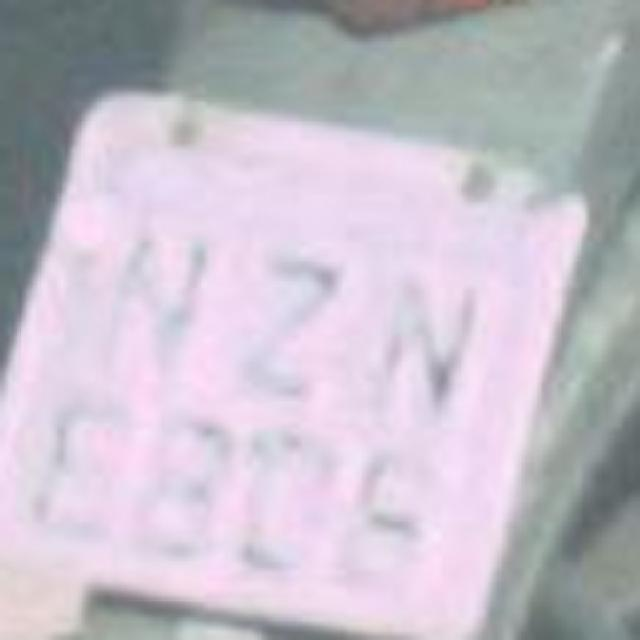3: (8, 372, 148, 568)
5: (332, 428, 456, 608)
N: (96, 208, 224, 392), (360, 256, 488, 429)
Z: (220, 240, 348, 408)
